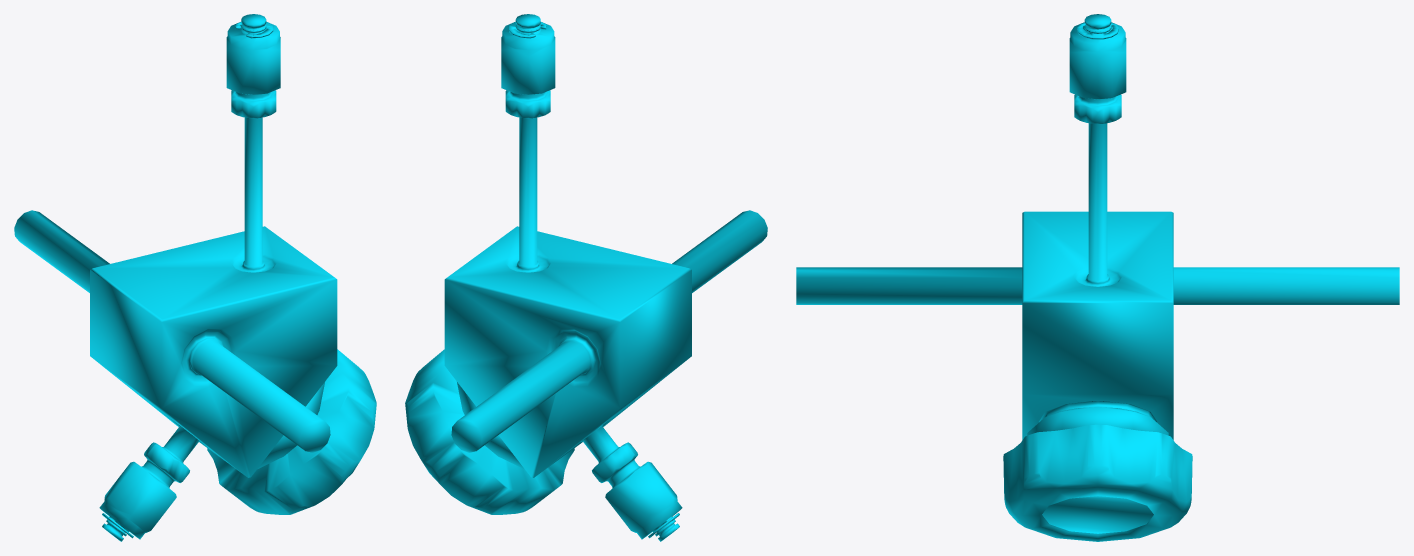
File: _FAB10_BB03_5PcH2N2-KET-00004.gltf
3 views of the same model, side by side, from view 1: azimuth 30°, elevation 25°; view 2: azimuth 150°, elevation 25°; view 3: azimuth 270°, elevation 25° (orthographic). The views are drawn at different scales.
Parts seen in each view (by area): view 1: *A7; view 2: *A7; view 3: *A7.
Part boxes in pixels (x1,y1,x2,y2): *A7: [14, 14, 376, 541]; *A7: [405, 14, 767, 541]; *A7: [796, 14, 1399, 541].
Bounding box in the file's own units: 106 × 192 × 203.
